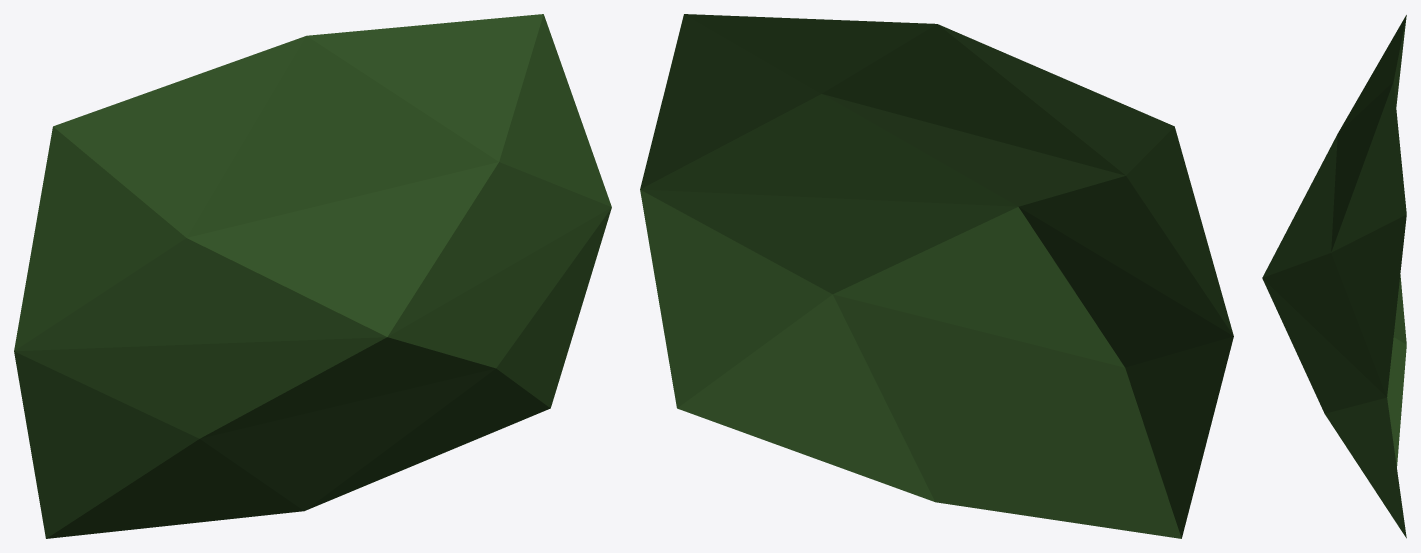
The model's file is SM_CommonTerracedHill.obj.
The picture shows the model from 3 angles, left to right: view 1: azimuth 30°, elevation 25°; view 2: azimuth 150°, elevation 25°; view 3: azimuth 270°, elevation 25°; orthographic projection. The views are drawn at different scales.
Visible parts, largest first — view 1: SM_CommonTerracedHill; view 2: SM_CommonTerracedHill; view 3: SM_CommonTerracedHill.
Boxes of the visible parts, box(x1,y1,x2,y2) form: SM_CommonTerracedHill: box(14, 14, 611, 538); SM_CommonTerracedHill: box(640, 14, 1233, 538); SM_CommonTerracedHill: box(1262, 15, 1406, 538).
Size of the model in its own units: 850 by 650 by 220.
